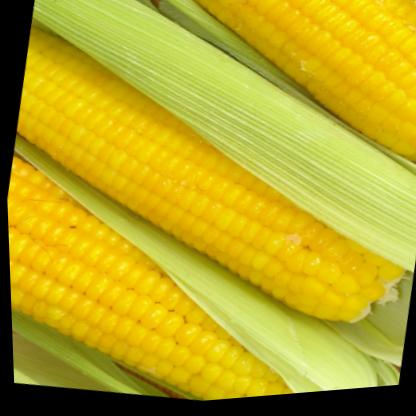---: (0, 0, 416, 369), (4, 123, 367, 416), (117, 0, 416, 197)
